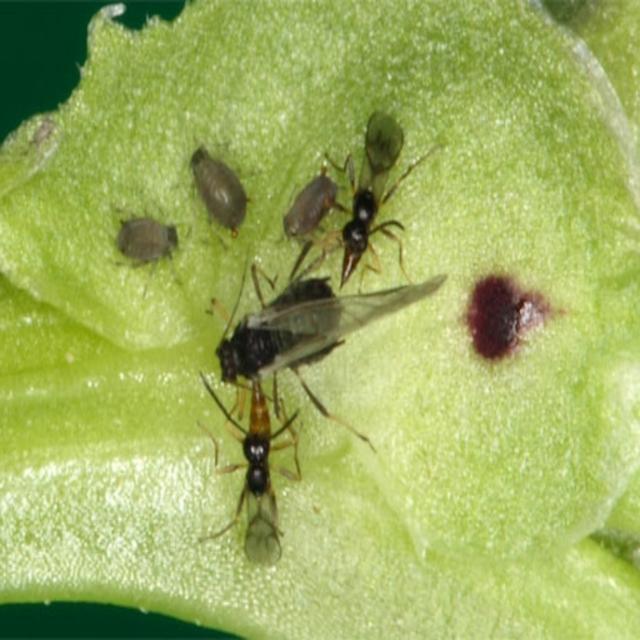Aphid-Grown-: (174, 127, 267, 234), (267, 153, 348, 259), (106, 192, 189, 292)
Aphid-Grown-have wings-: (198, 257, 458, 425)
